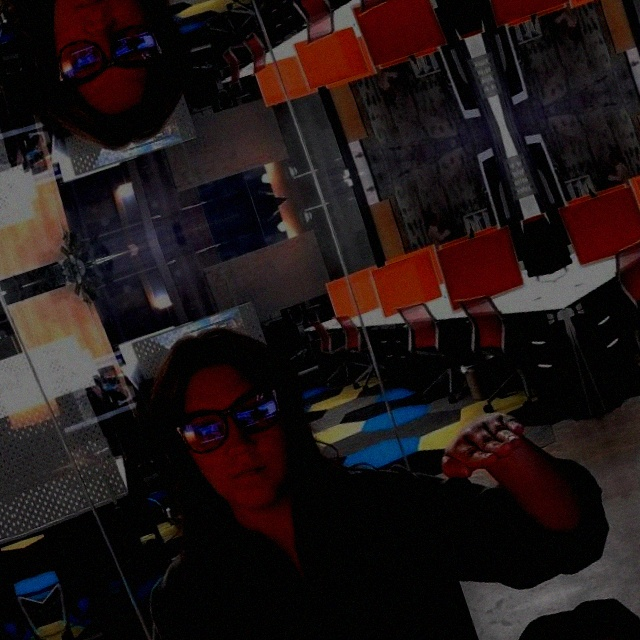Rock: (423, 408, 529, 497)
